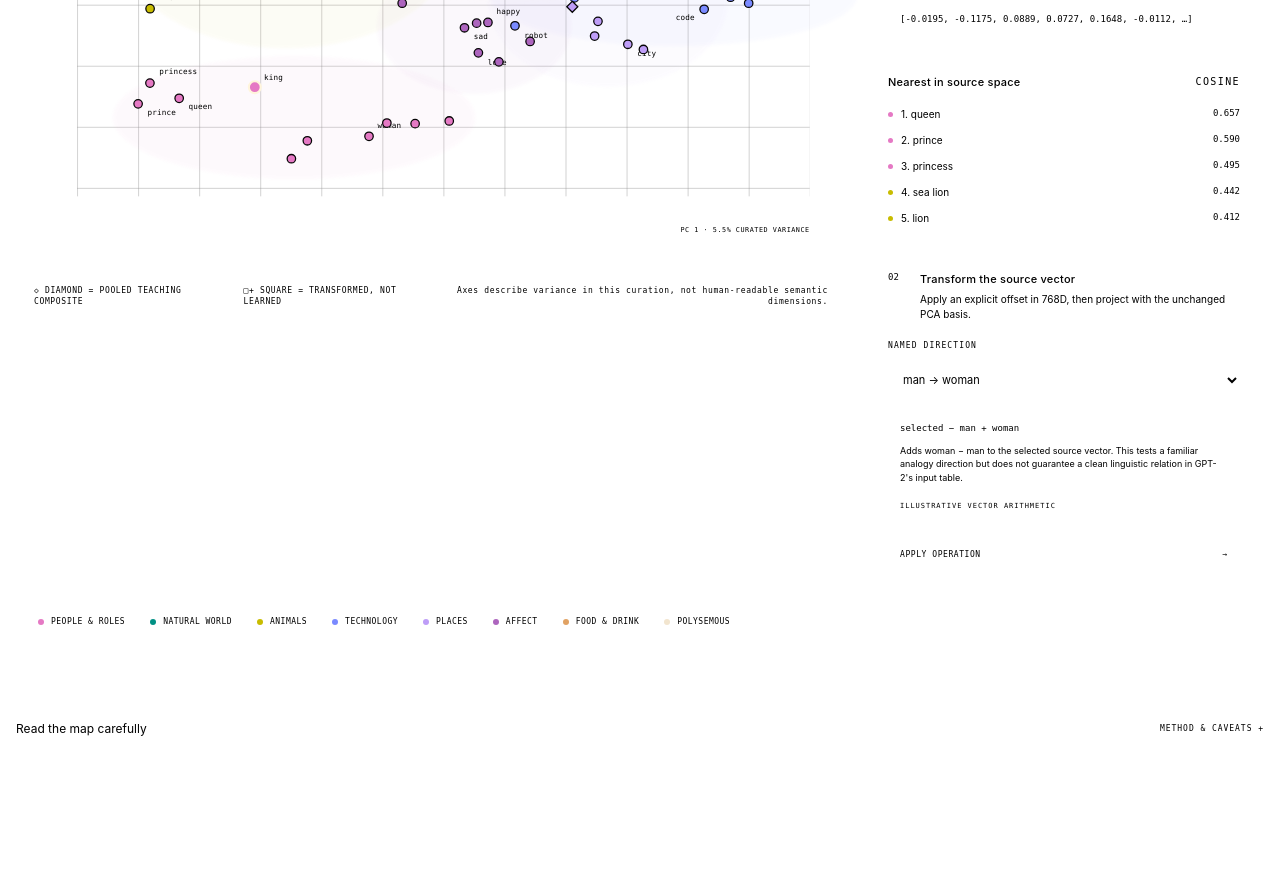
Test: EmbeddingSpaceVisualization › applies, compares, and resets a source-space transformation
(page scrolled)
Step 1. Click the button "Apply operation →" → (940, 555), box [888,536,1240,574]
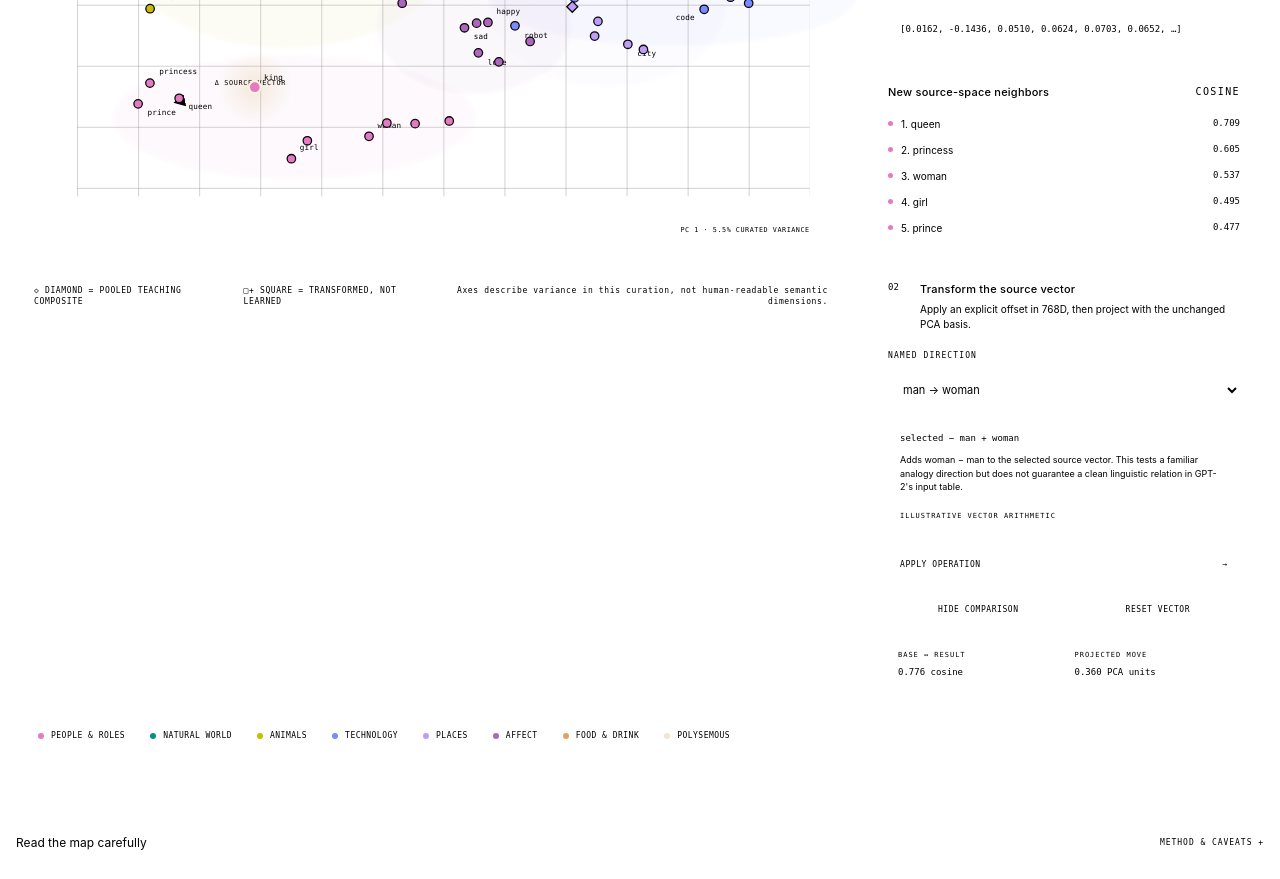
Expected: the element with class "embedding-space__displacement" is shown, [175,88,255,103]
Expected: the heading "New source-space neighbors" is shown, [888,85,1049,99]
Expected: the text "Base ↔ result" is shown, [898,651,966,659]
Step 2. Click the button "Hide comparison" → (978, 610), box [888,591,1069,629]
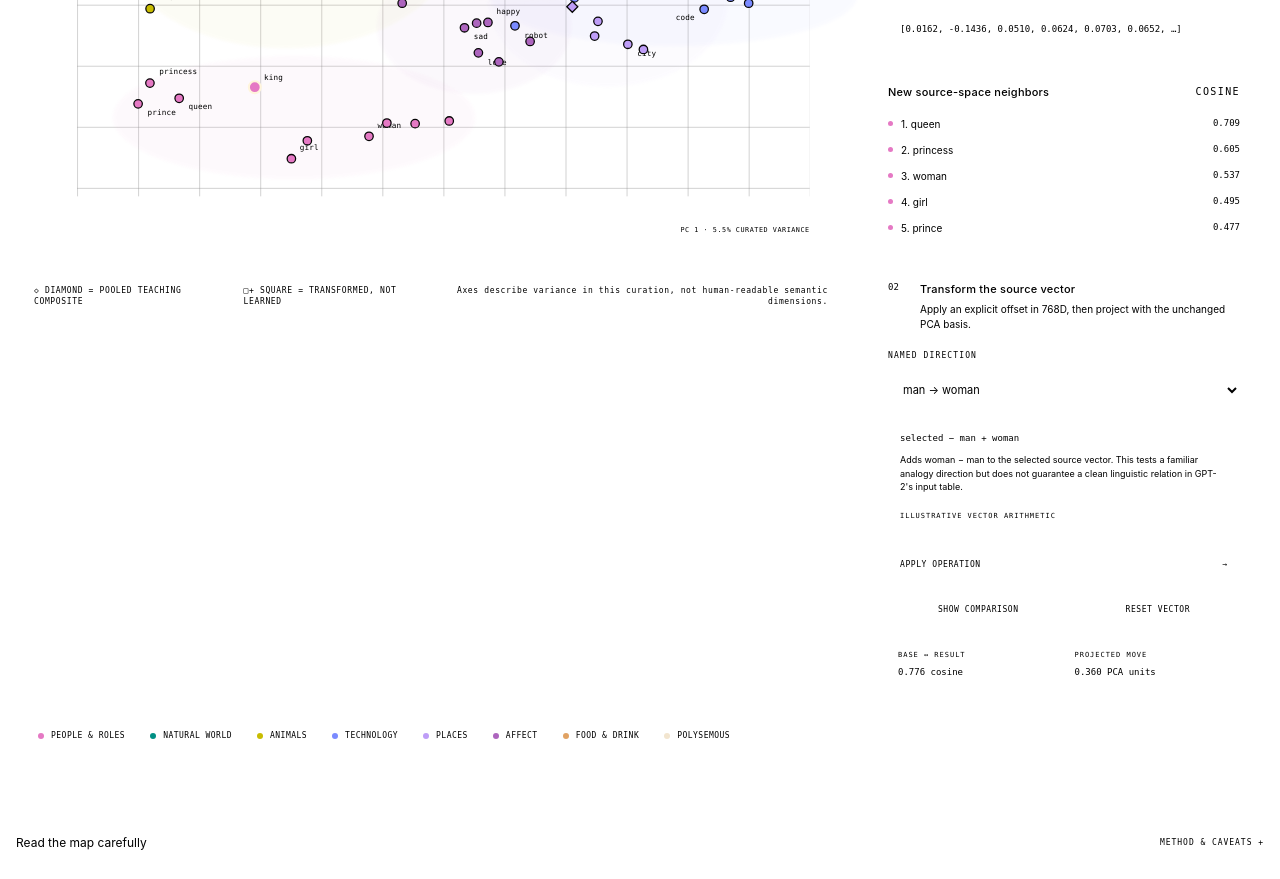
Step 3. Click the button "Show comparison" → (978, 610), box [888,591,1069,629]
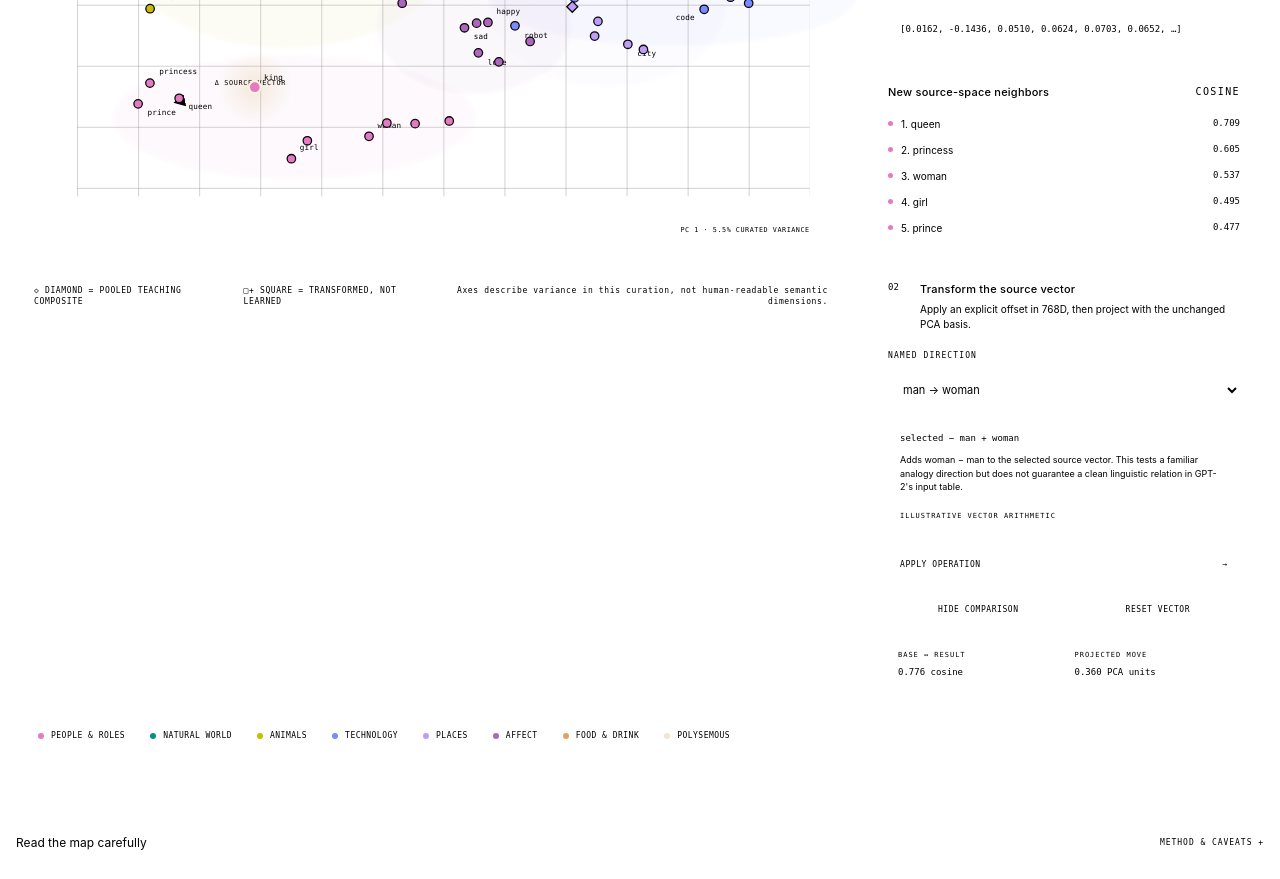
Expected: the element with class "embedding-space__displacement" is shown, [175,88,255,103]
Step 4. Click the button "Reset vector" → (1158, 610), box [1076,591,1240,629]
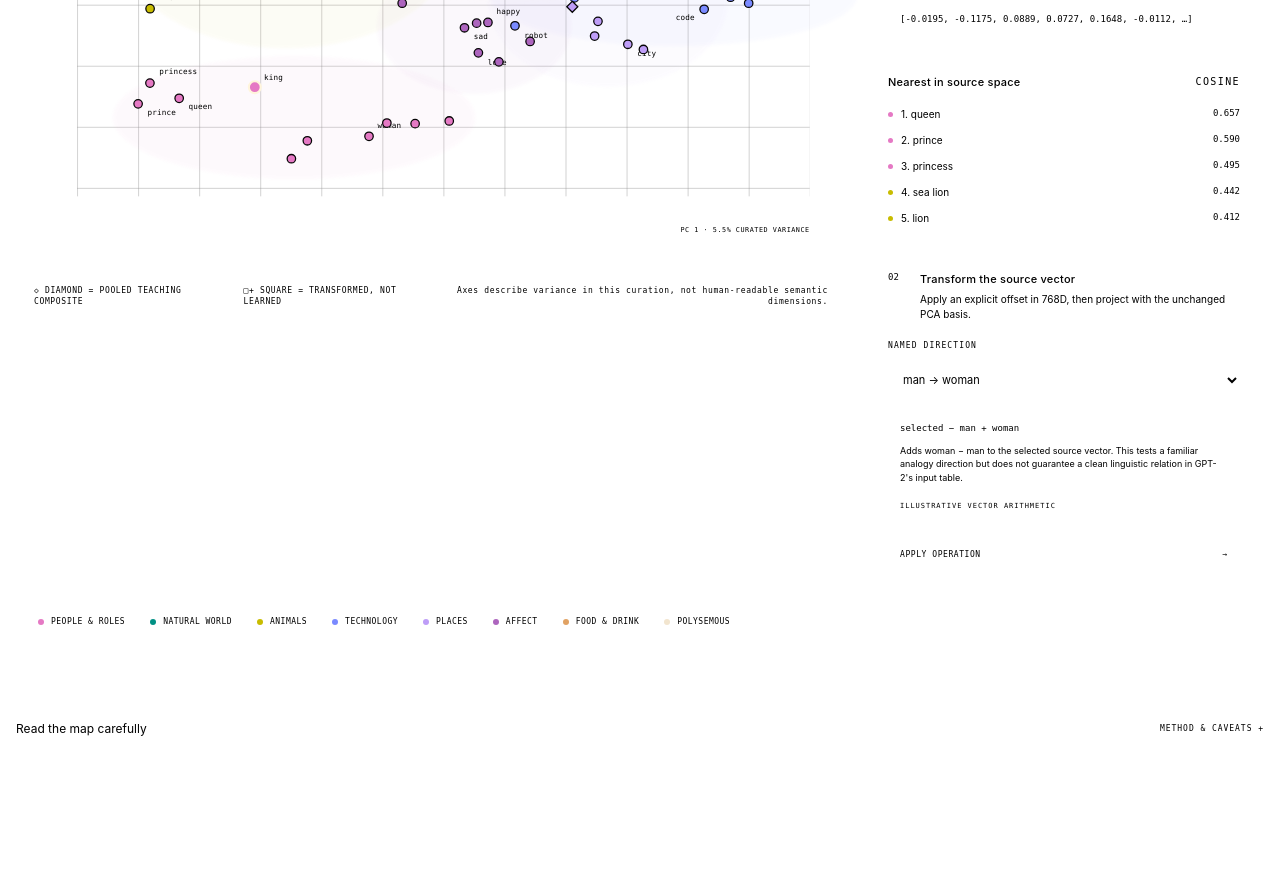
Expected: the heading "Nearest in source space" is shown, [888,75,1020,89]
